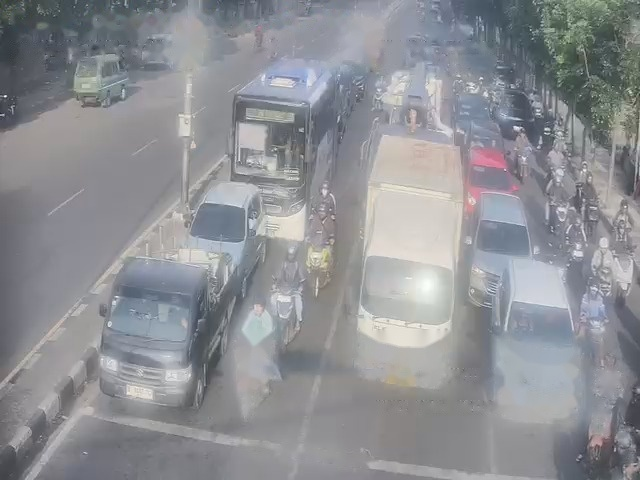Bis: (242, 60, 339, 229)
Mobil: (105, 247, 231, 407), (501, 259, 578, 394), (187, 179, 260, 276), (473, 192, 530, 300), (465, 147, 513, 198)
Motor: (274, 284, 304, 346), (602, 248, 632, 303), (576, 302, 603, 358), (306, 232, 329, 286), (589, 392, 608, 456), (245, 344, 262, 405), (549, 196, 566, 236), (571, 236, 584, 273), (587, 201, 598, 236), (516, 148, 529, 172), (549, 168, 563, 178), (541, 124, 547, 143)
Truk: (363, 132, 458, 368)
